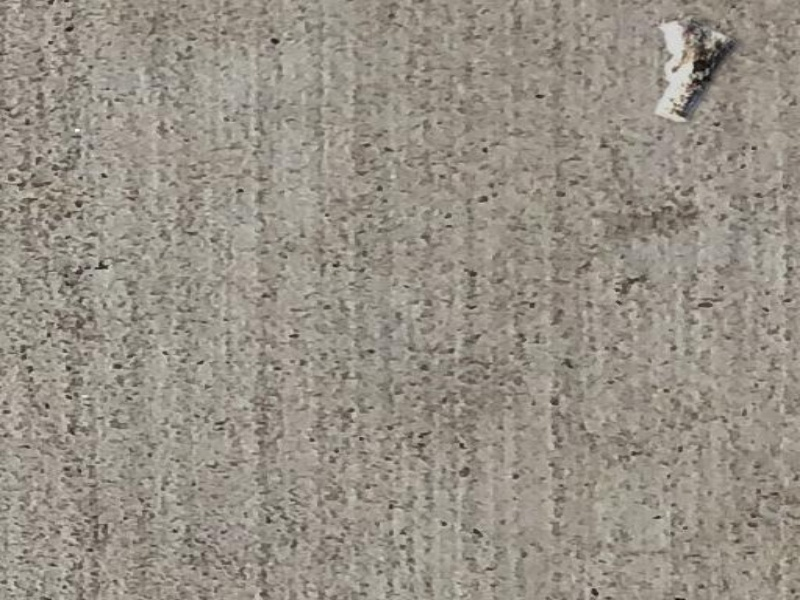cig: (658, 14, 730, 127)
